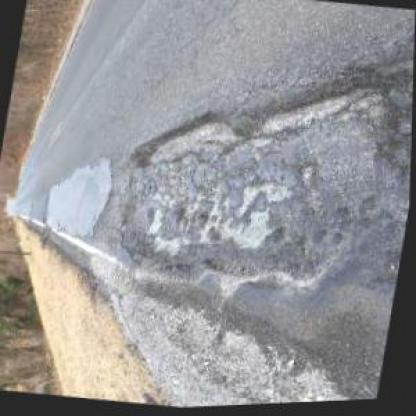pothole: (105, 39, 414, 312)
